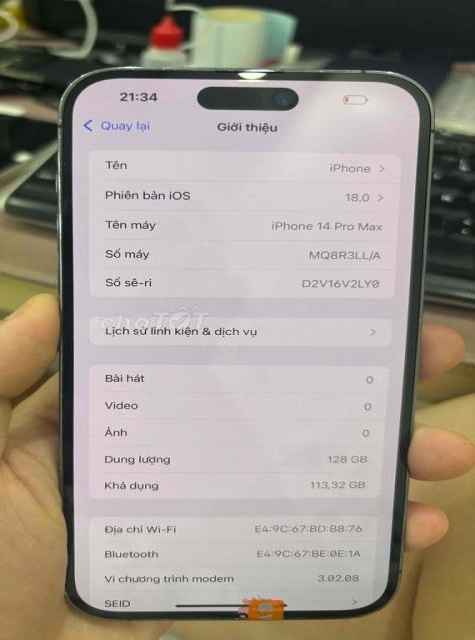scratch: (142, 58, 363, 78), (192, 612, 251, 624)
